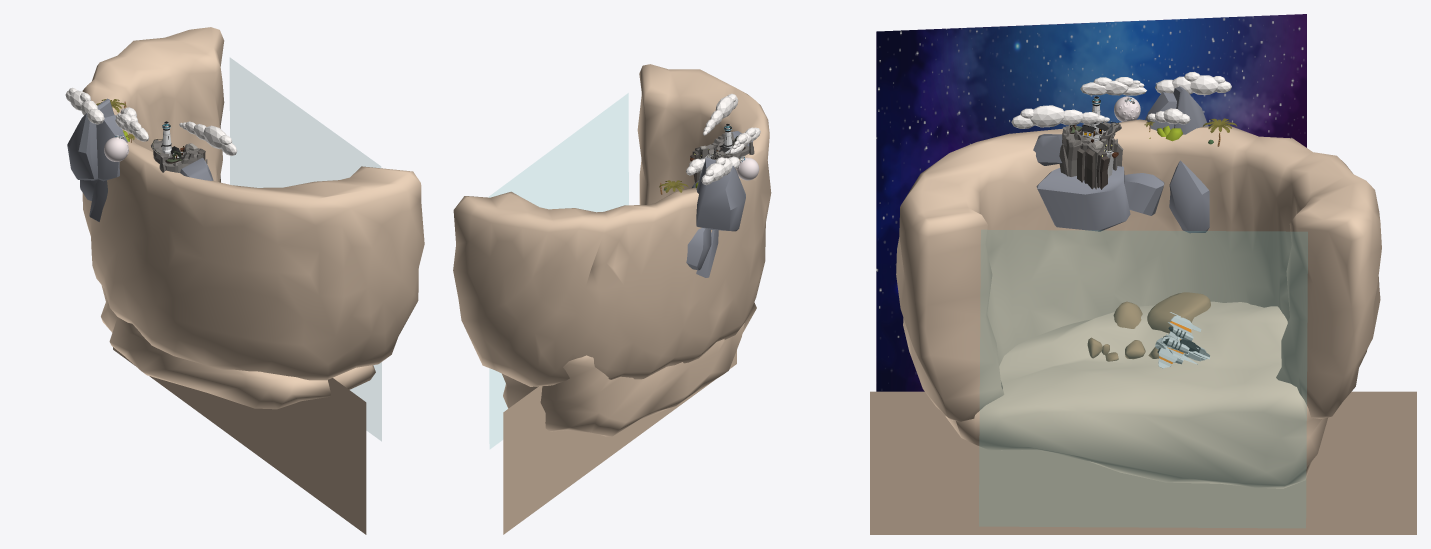
File: OceanScene.glb
3 renders of one model, left to right at view 1: azimuth 30°, elevation 25°; view 2: azimuth 150°, elevation 25°; view 3: azimuth 270°, elevation 25°, orthographic. The views are drawn at different scales.
Visible parts, largest first — view 1: sand, bottomSand, water, sandFloor, bigRocks, Cube.051, Icosphere.011, Icosphere.003, moonBas, Icosphere.008; view 2: sand, sandFloor, water, bottomSand, bigRocks, Cube.051, Icosphere.003, Icosphere.011; view 3: water, sand, Background, bottomSand, sandFloor, bigRocks, Cube.051, seaRock, Cube.055, Icosphere.011, Icosphere.003, Icosphere.008.
Boxes of the visible parts, x1=… form: sand: x1=82, y1=27, x2=424, y2=380; bottomSand: x1=113, y1=347, x2=366, y2=534; water: x1=230, y1=58, x2=381, y2=440; sandFloor: x1=101, y1=285, x2=375, y2=409; bigRocks: x1=67, y1=98, x2=213, y2=221; Cube.051: x1=151, y1=121, x2=207, y2=172; Icosphere.011: x1=179, y1=121, x2=237, y2=155; Icosphere.003: x1=65, y1=87, x2=104, y2=124; moonBas: x1=104, y1=135, x2=128, y2=161; Icosphere.008: x1=115, y1=113, x2=149, y2=141; sand: x1=453, y1=64, x2=771, y2=386; sandFloor: x1=502, y1=302, x2=756, y2=436; water: x1=489, y1=93, x2=628, y2=448; bottomSand: x1=503, y1=350, x2=736, y2=534; bigRocks: x1=686, y1=131, x2=752, y2=277; Cube.051: x1=690, y1=124, x2=754, y2=182; Icosphere.003: x1=701, y1=156, x2=739, y2=185; Icosphere.011: x1=703, y1=93, x2=738, y2=135; water: x1=979, y1=230, x2=1307, y2=527; sand: x1=896, y1=119, x2=1381, y2=421; Background: x1=876, y1=14, x2=1306, y2=391; bottomSand: x1=870, y1=391, x2=1416, y2=534; sandFloor: x1=945, y1=301, x2=1328, y2=488; bigRocks: x1=1033, y1=86, x2=1209, y2=233; Cube.051: x1=1059, y1=96, x2=1123, y2=189; seaRock: x1=1087, y1=292, x2=1210, y2=361; Cube.055: x1=1155, y1=312, x2=1209, y2=368; Icosphere.011: x1=1011, y1=105, x2=1109, y2=128; Icosphere.003: x1=1155, y1=72, x2=1231, y2=94; Icosphere.008: x1=1080, y1=77, x2=1146, y2=95.
Bounding box in the file's own units: 85.27 × 144 × 162.
Materials: 16 (4 with a texture image).
